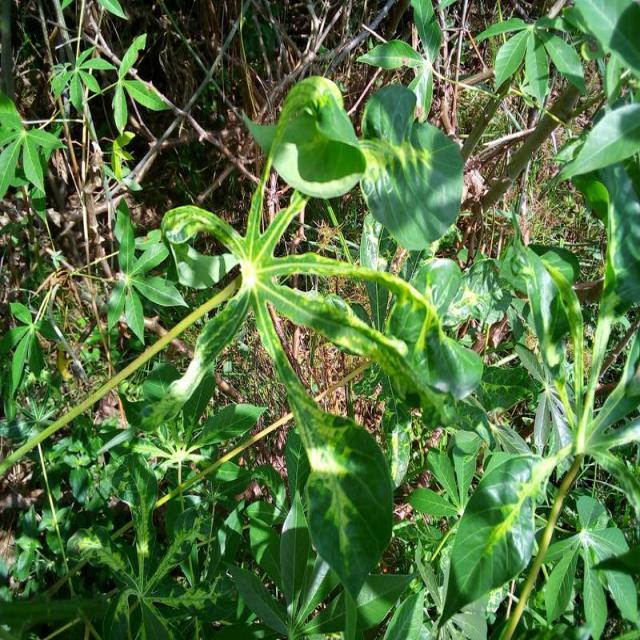Mosaico: (200, 102, 457, 527)
